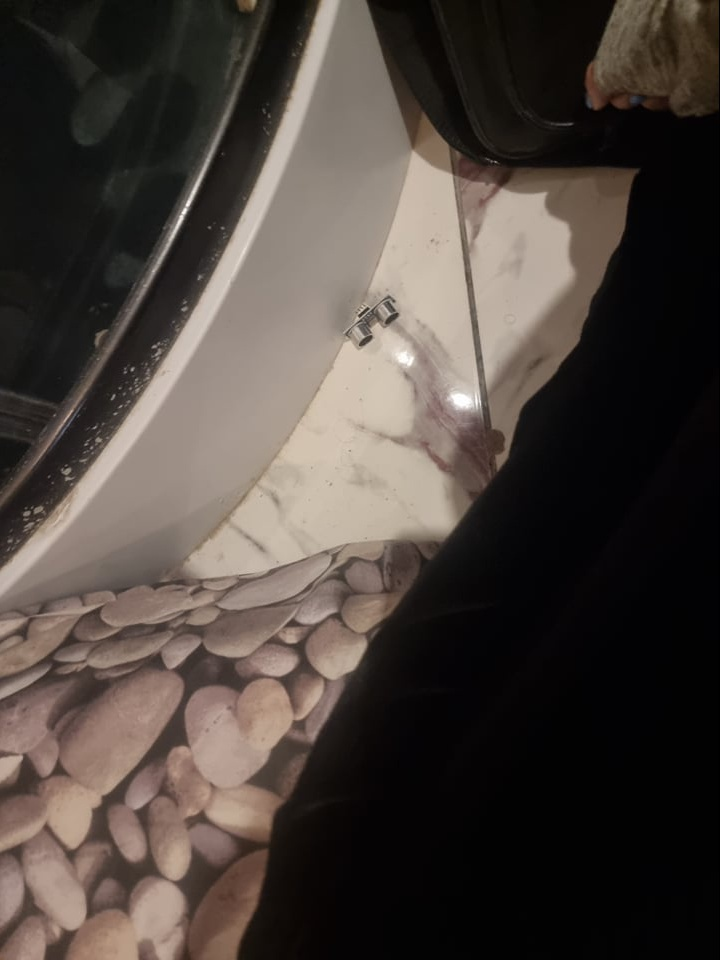SENSOR: (346, 289, 403, 350)
